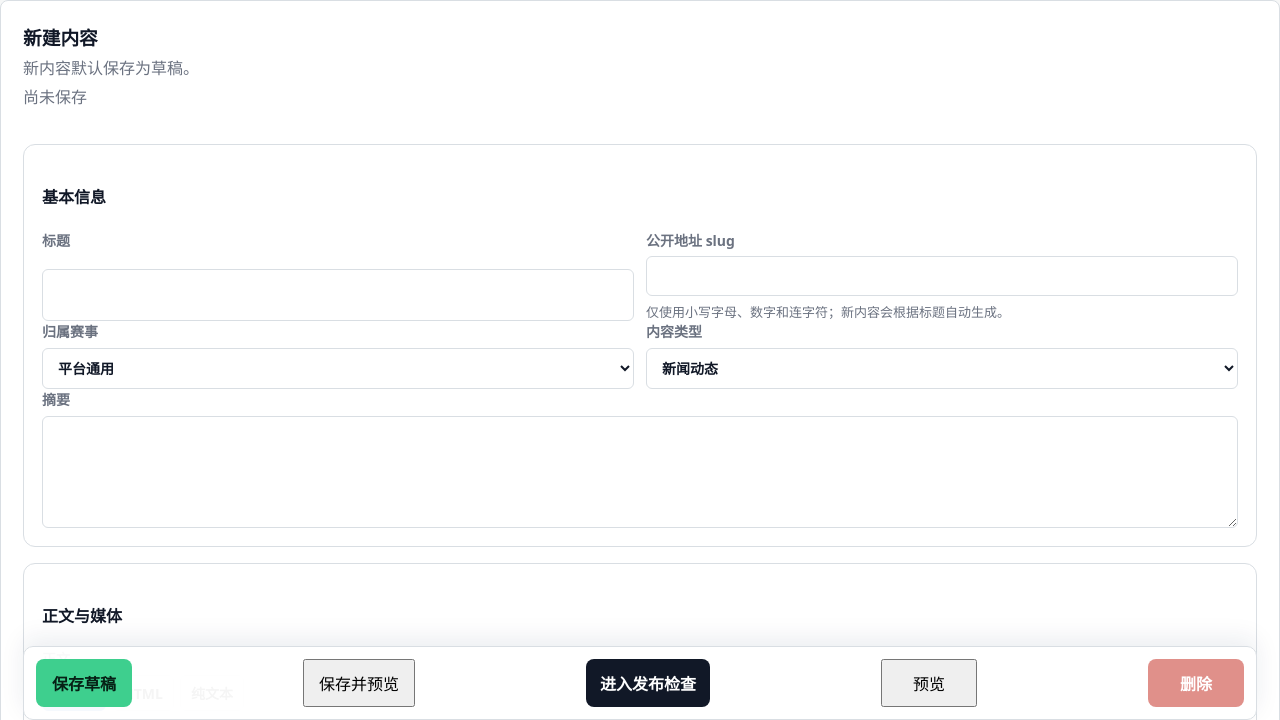
Test case: ContentEditorPanel › focuses the slug field and suggests a useful alternative when it conflicts
Type "Flight Day" into the field labelled "标题".
click(338, 294); type("Flight Day")  # box x1=42 y1=268 x2=634 y2=320
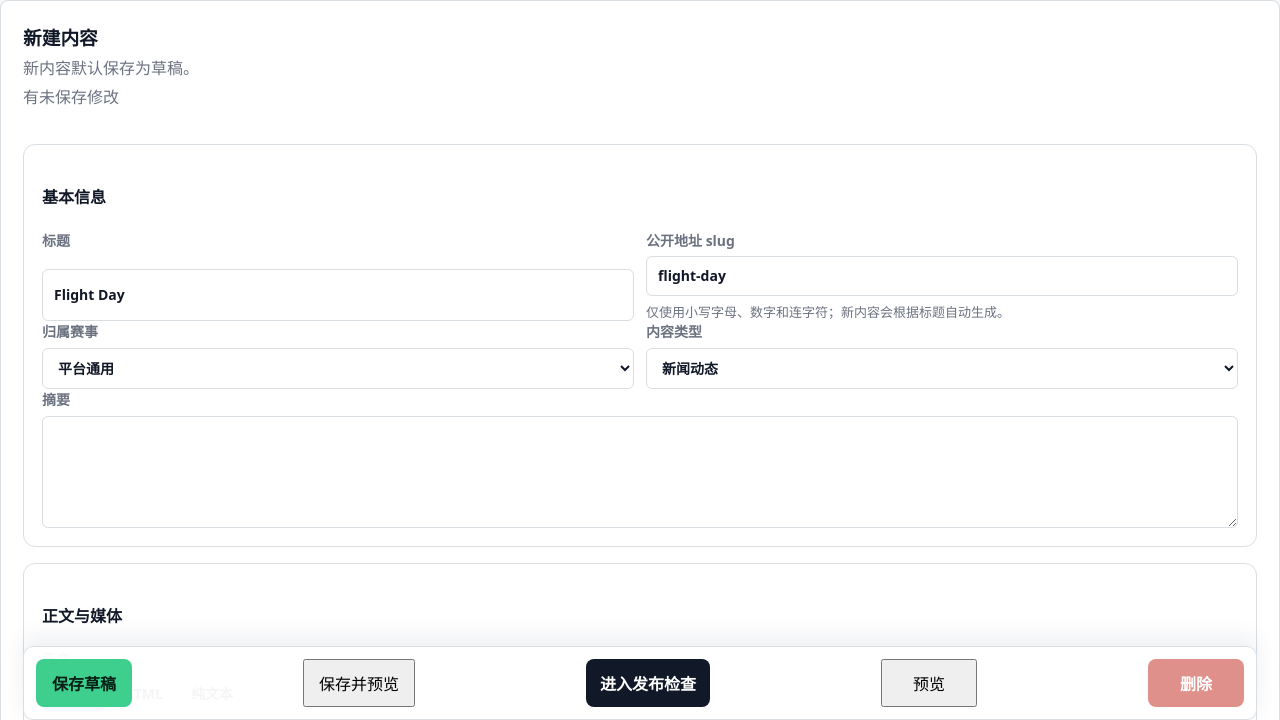
Click the button "保存草稿".
click(84, 683)  # box x1=36 y1=659 x2=132 y2=707
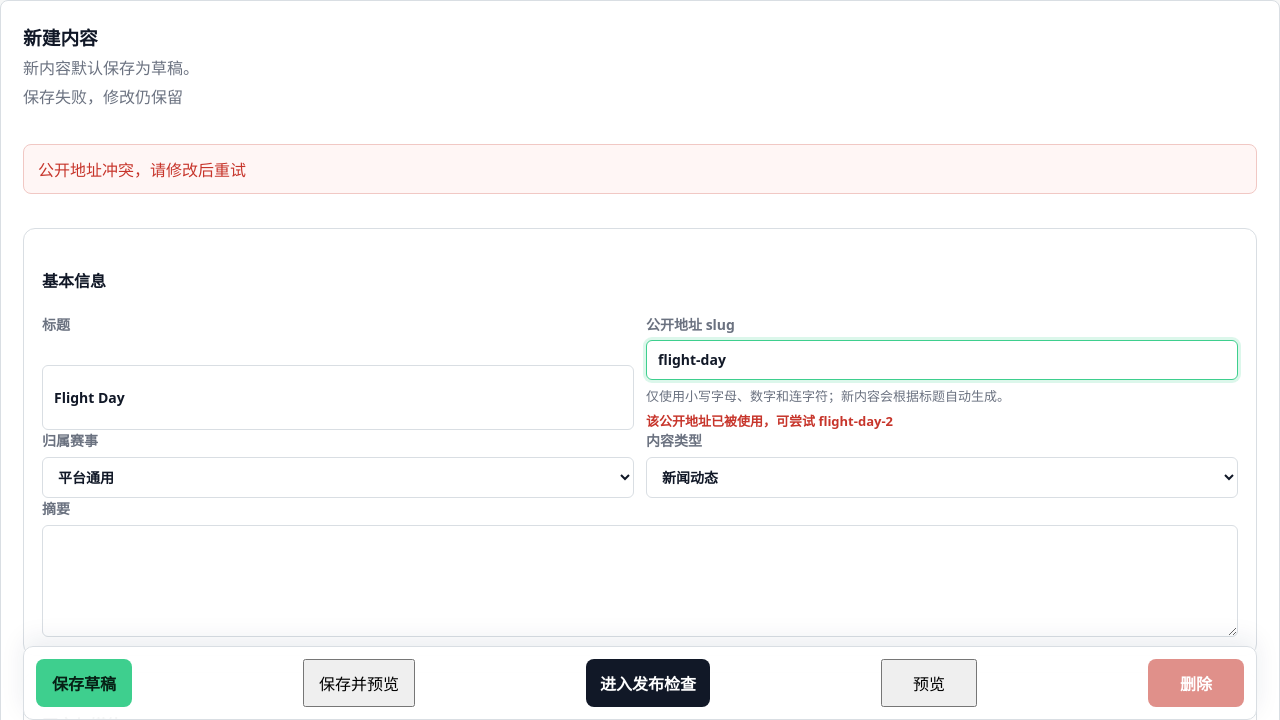
Expected: the text "该公开地址已被使用，可尝试 flight-day-2" is shown, x1=646 y1=412 x2=893 y2=430
